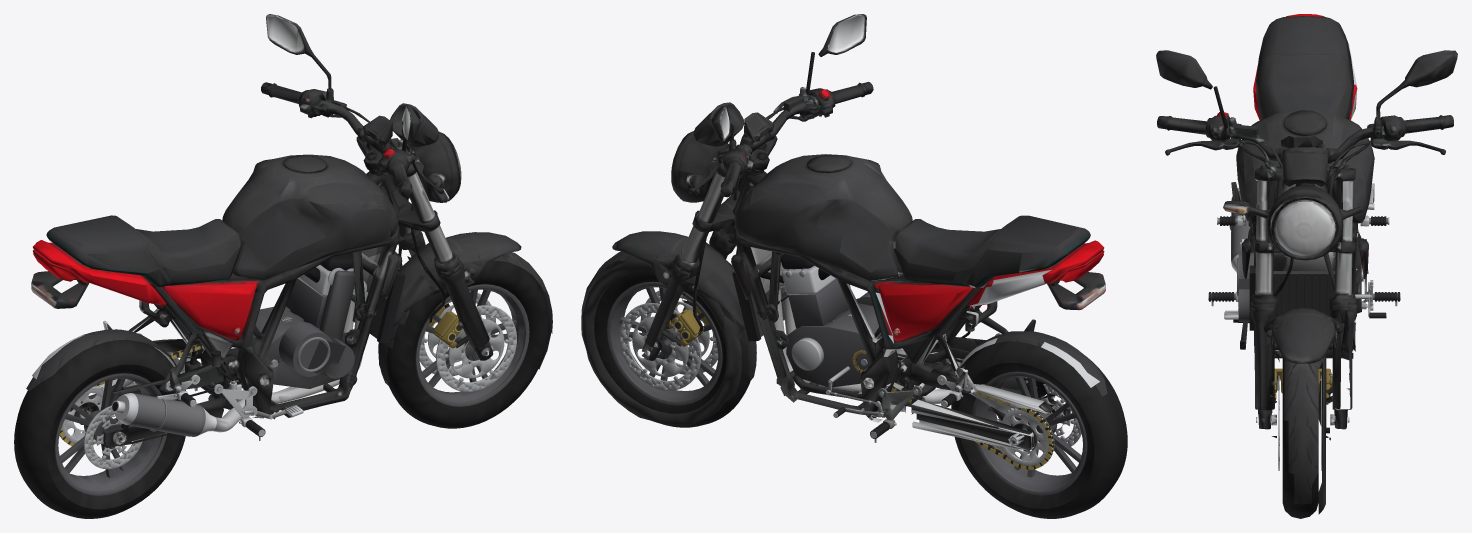
The picture shows the model from 3 angles, left to right: view 1: azimuth 30°, elevation 25°; view 2: azimuth 150°, elevation 25°; view 3: azimuth 270°, elevation 25°; orthographic projection. The views are drawn at different scales.
Visible parts, largest first — view 1: frame, wheel_rear~rubber, tank, wheel_front~rubber, seat, handlebar, side_cover_r, fork, wheel_rear, clutch_cover, wheel_front, tail (+14 smaller); view 2: frame, wheel_rear~rubber, tank, side_cover_l, handlebar, frame~alu, seat, fork, wheel_rear, wheel_front~rubber, wheel_front, tail (+14 smaller); view 3: frame, handlebar, seat, headlight_cowl, fork, tank, radiator, wheel_front~rubber, frame~rubber, frame~alu, clutch_cover, exhaust_headers~can (+5 smaller).
Boxes of the visible parts, left/top/right/bottom form: frame: left=26, top=82, right=552, bottom=446; wheel_rear~rubber: left=14, top=340, right=185, bottom=518; tank: left=222, top=125, right=398, bottom=271; wheel_front~rubber: left=387, top=260, right=548, bottom=428; seat: left=50, top=215, right=241, bottom=287; handlebar: left=266, top=14, right=443, bottom=205; side_cover_r: left=153, top=246, right=265, bottom=370; fork: left=366, top=170, right=493, bottom=360; wheel_rear: left=54, top=373, right=167, bottom=495; clutch_cover: left=279, top=270, right=355, bottom=378; wheel_front: left=415, top=284, right=529, bottom=406; tail: left=31, top=227, right=141, bottom=308; frame: left=581, top=82, right=1107, bottom=444; wheel_rear~rubber: left=951, top=341, right=1127, bottom=518; tank: left=738, top=113, right=912, bottom=272; side_cover_l: left=867, top=248, right=985, bottom=371; handlebar: left=688, top=14, right=867, bottom=204; frame~alu: left=828, top=241, right=1099, bottom=450; seat: left=893, top=215, right=1082, bottom=283; fork: left=642, top=170, right=767, bottom=360; wheel_rear: left=972, top=371, right=1087, bottom=495; wheel_front~rubber: left=594, top=261, right=750, bottom=427; wheel_front: left=607, top=281, right=722, bottom=405; tail: left=1019, top=227, right=1105, bottom=310; frame: left=1159, top=41, right=1452, bottom=514; handlebar: left=1156, top=50, right=1457, bottom=228; seat: left=1253, top=17, right=1353, bottom=118; headlight_cowl: left=1252, top=166, right=1341, bottom=295; fork: left=1250, top=180, right=1349, bottom=439; tank: left=1243, top=110, right=1361, bottom=227; radiator: left=1255, top=267, right=1345, bottom=323; wheel_front~rubber: left=1282, top=357, right=1318, bottom=518; frame~rubber: left=1209, top=216, right=1399, bottom=318; frame~alu: left=1224, top=44, right=1374, bottom=323; clutch_cover: left=1238, top=252, right=1253, bottom=321; exhaust_headers~can: left=1231, top=191, right=1250, bottom=262.
Bounding box in the file's own units: 2.11 × 1.47 × 1.01.
11 materials, 1 textured.
